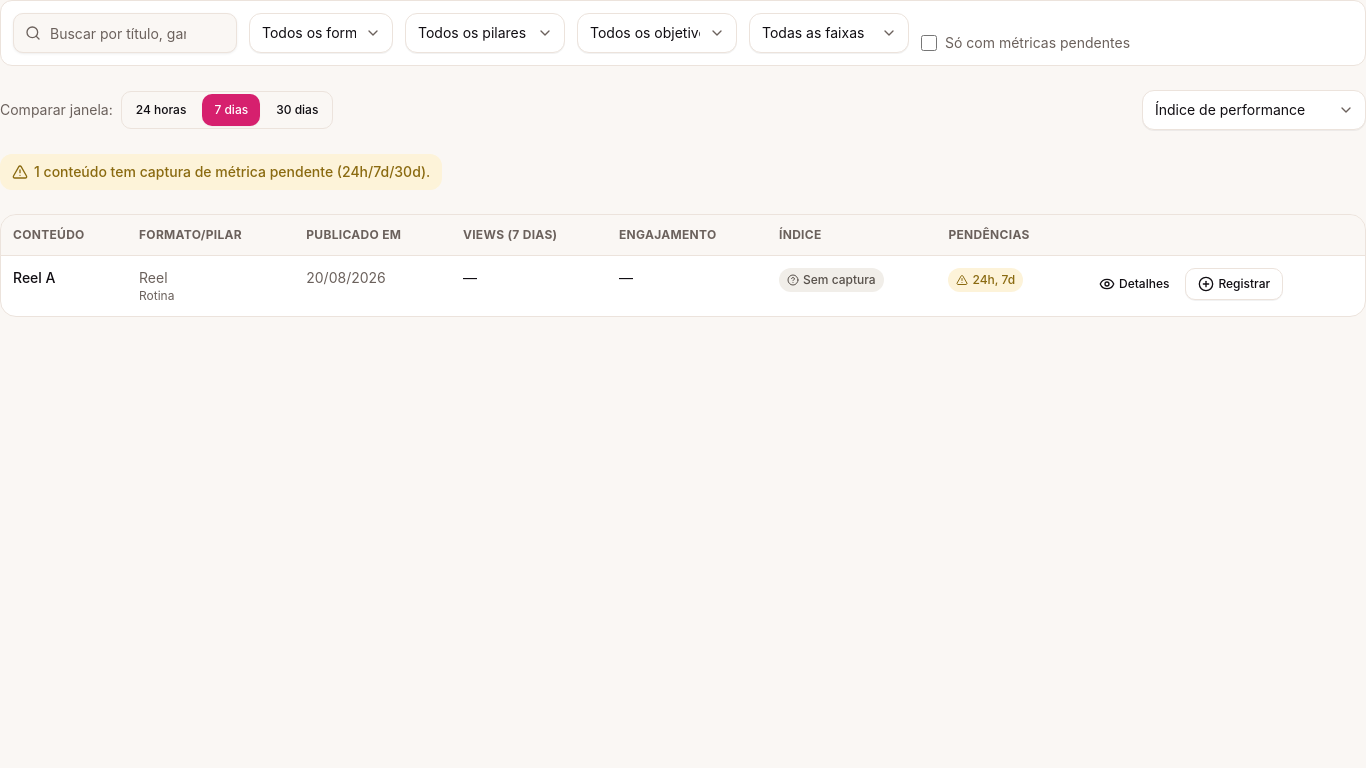
Test: MetricasWorkspace › abre o drawer de captura ao clicar em Registrar
The width and height of the screenshot is (1366, 768).
Click the button "Registrar". click: (1234, 284)
box: [1185,268,1283,300]
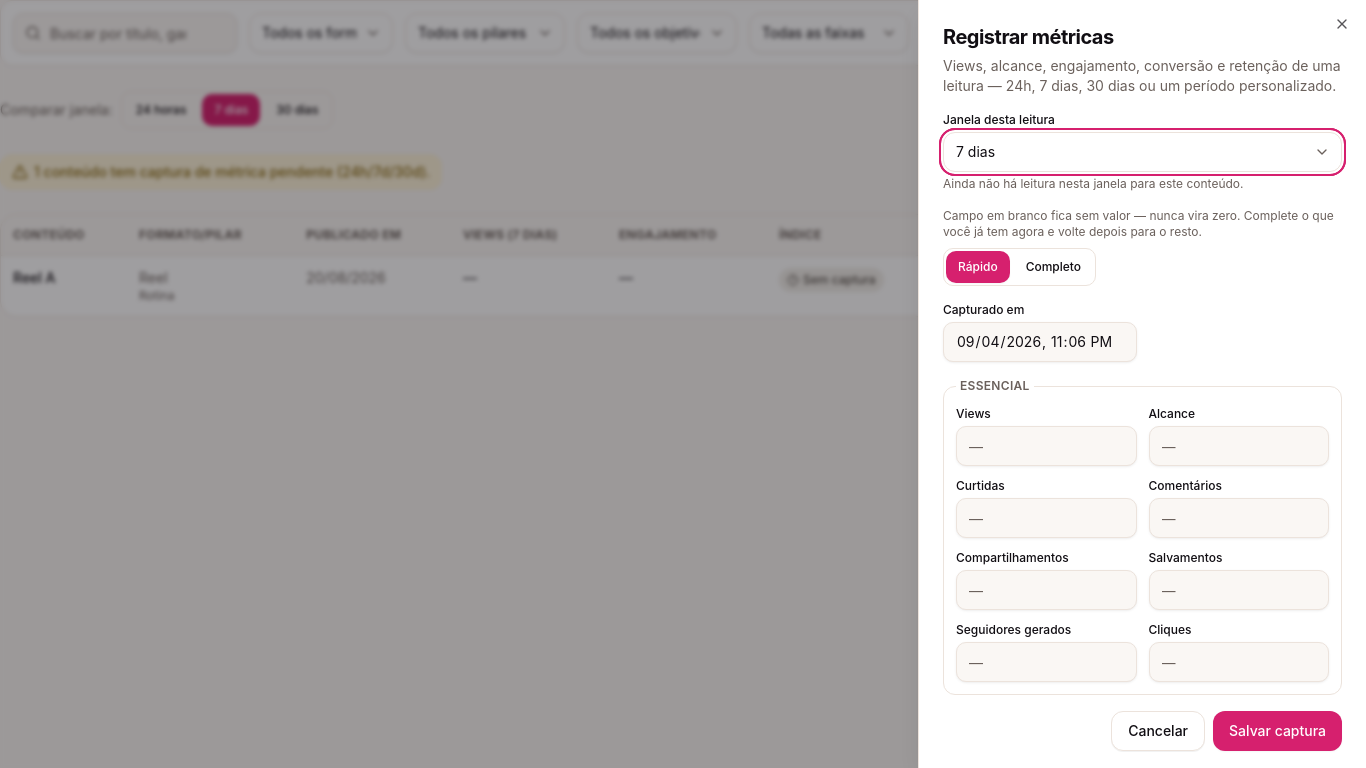
Check: the heading "Registrar métricas" is shown, box [943,25,1114,49]
